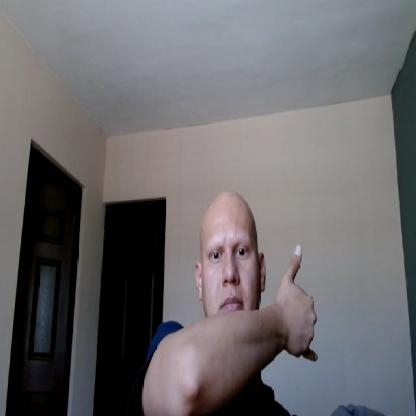Y: (279, 241, 323, 366)
